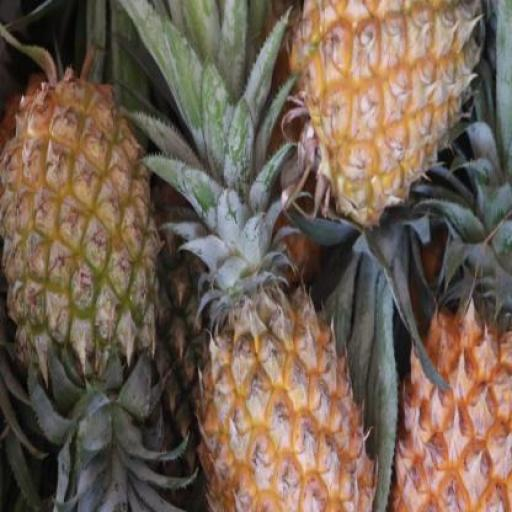------------------------------: (1, 71, 157, 365)
Pineapple - v8 v1: (286, 0, 483, 226), (187, 291, 376, 512), (390, 300, 512, 511)
